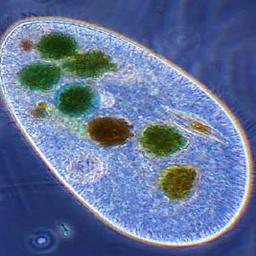Paramecium: (1, 17, 253, 249)
